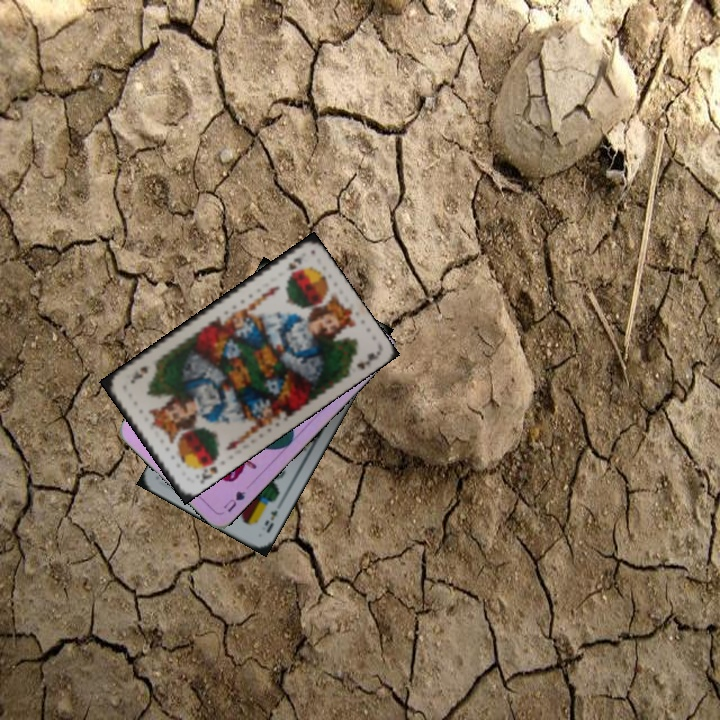EK: (260, 506, 280, 535)
GU: (219, 487, 248, 515)
SK: (196, 452, 221, 486), (283, 253, 305, 273)
